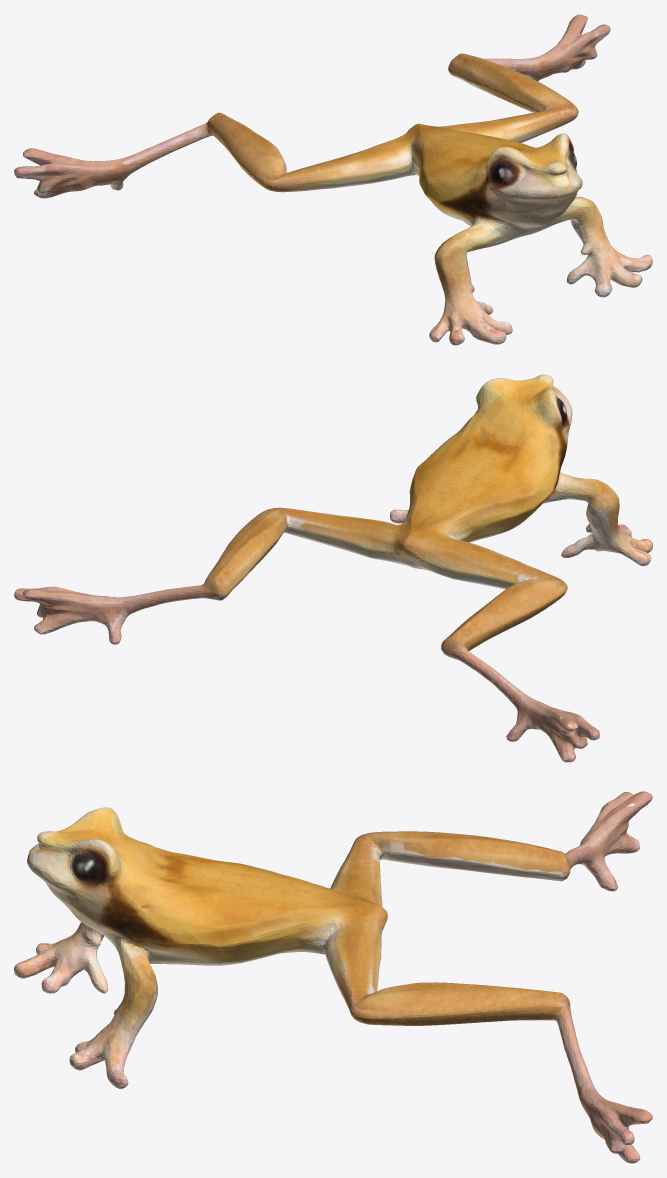
The model's file is paint_mesh_Frog.glb.
3 views of the same model, one above another, from view 1: azimuth 30°, elevation 25°; view 2: azimuth 150°, elevation 25°; view 3: azimuth 270°, elevation 25° (orthographic). The views are drawn at different scales.
Visible parts, largest first — view 1: world; view 2: world; view 3: world.
Part boxes in pixels (x1,y1,x2,y2): world: (14,14,652,345); world: (14,374,652,762); world: (14,791,652,1163).
Size of the model in its own units: 1.99 by 0.5316 by 1.56.
Materials: 1 (1 with a texture image).
